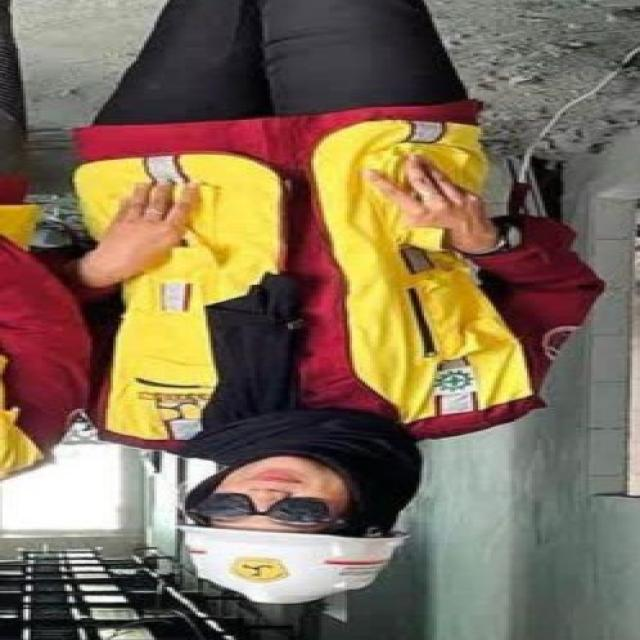safetyhelmet: (176, 488, 414, 604)
